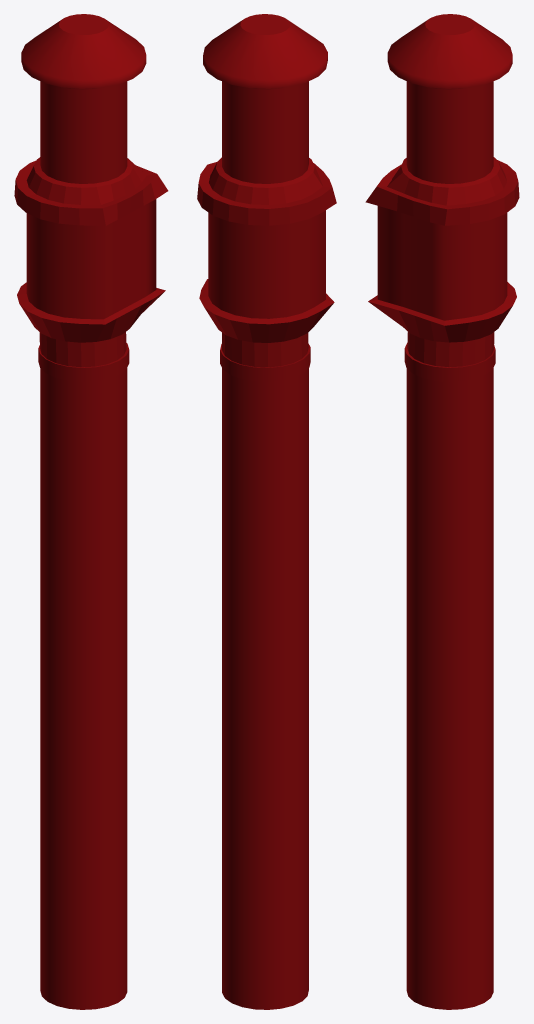
File: lightpostNotlightpost.obj
3 renders of one model, left to right at view 1: azimuth 90°, elevation 25°; view 2: azimuth 150°, elevation 25°; view 3: azimuth 270°, elevation 25°, orthographic.
Visible parts, largest first — view 1: default; view 2: default; view 3: default.
Part boxes in pixels (x1,y1,x2,y2): default: (14,14,168,1009); default: (197,14,336,1009); default: (365,14,519,1009).
Size of the model in its own units: 2.02 by 15.4 by 2.22.
